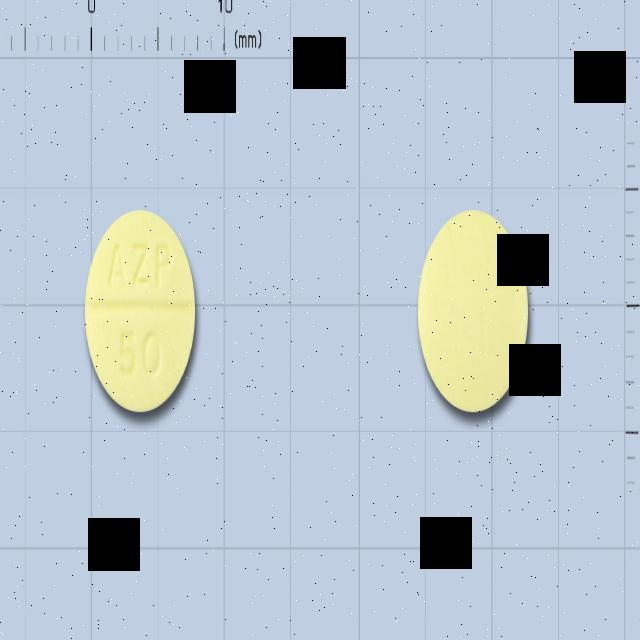Teva Azathioprine Tab: (84, 211, 196, 414)
